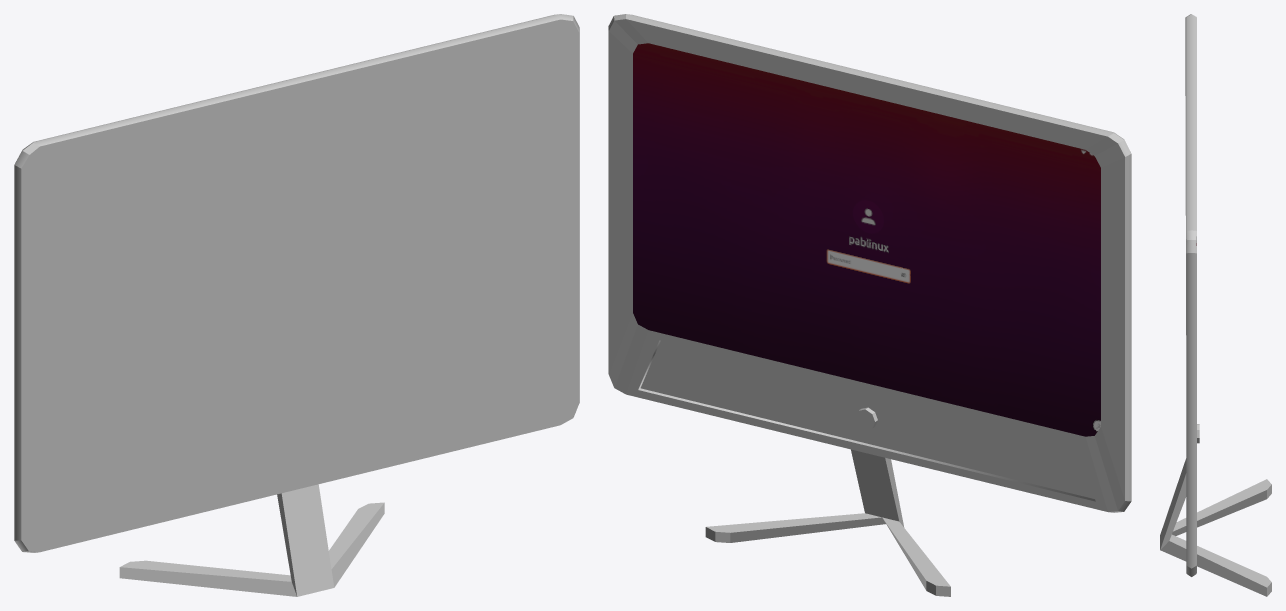
The model's file is All_In_One_LOD0.fbx.
The picture shows the model from 3 angles, left to right: view 1: azimuth 30°, elevation 25°; view 2: azimuth 150°, elevation 25°; view 3: azimuth 270°, elevation 25°; orthographic projection. The views are drawn at different scales.
Visible parts, largest first — view 1: Laptop.001; view 2: Laptop.001; view 3: Laptop.001.
Boxes of the visible parts, left/top/right/bottom form: Laptop.001: left=14, top=14, right=579, bottom=596; Laptop.001: left=608, top=14, right=1131, bottom=596; Laptop.001: left=1160, top=14, right=1271, bottom=596.
Bounding box in the file's own units: 107 × 90.2 × 21.71.
